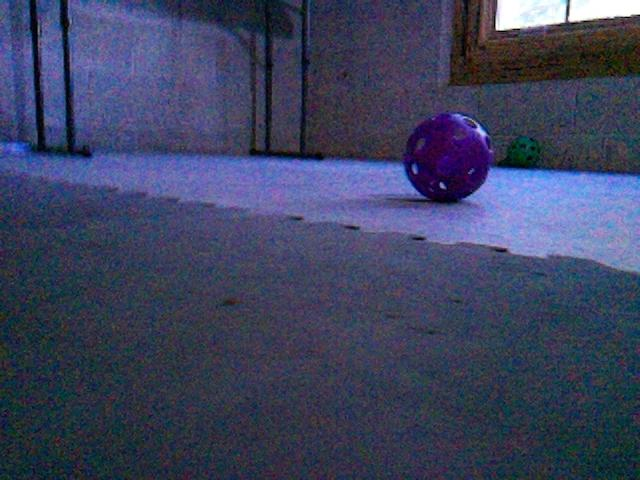Green: (502, 136, 542, 168)
Purple: (402, 111, 495, 203)
